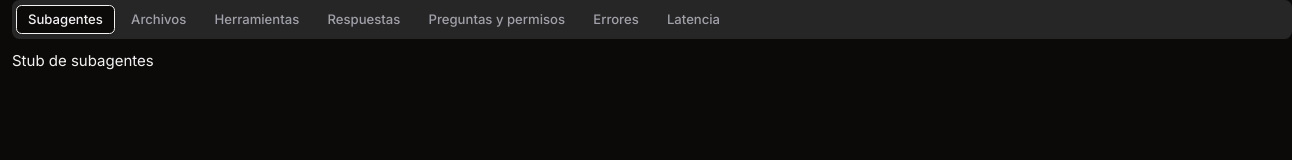
InspectorSectionTabs — interacción (FR-002, APG) › cambia de panel con el puntero y deja vacío el anterior
Click the tab "Errores" at (616,20), box [581,5,651,34]
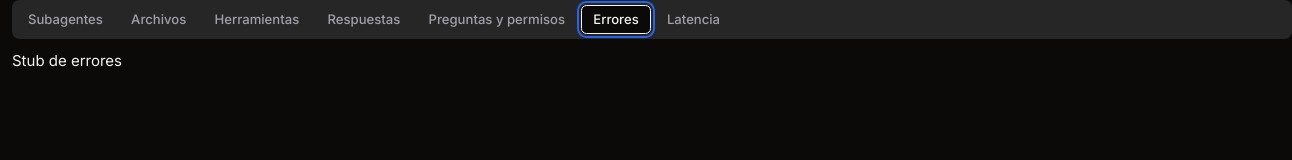
expect the text "Stub de errores" is shown: met, box [12,51,122,70]
expect the text "Stub de subagentes" is gone: met
